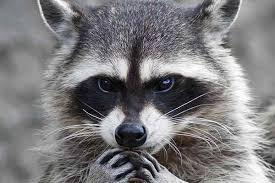raccoon: (22, 0, 275, 183)
